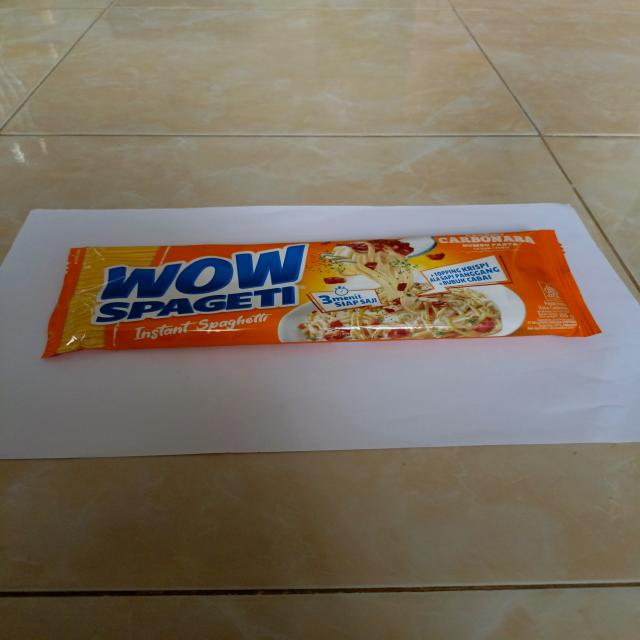indomie-tori-miso: (39, 228, 604, 360)
